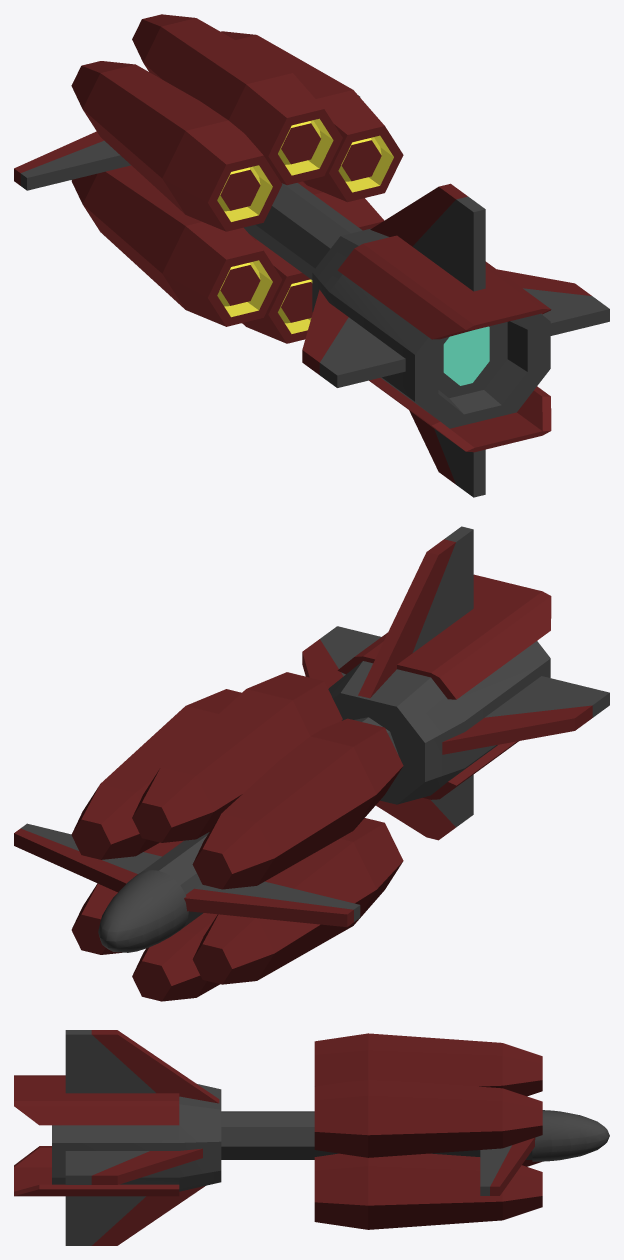
File: missile4.fbx
The picture shows the model from 3 angles, top to bottom: view 1: azimuth 30°, elevation 25°; view 2: azimuth 150°, elevation 25°; view 3: azimuth 270°, elevation 25°; orthographic projection. The views are drawn at different scales.
Visible parts, largest first — view 1: engine_high_26, engine_airplane%_49, engine_airplane%_45, engine_airplane%_50, engine_airplane%_51, wing_endLong_25, wing_endLong_23, cylinder_vertex_17, wing_endLong_52, engine_airplane%_43, wing_endLong_24, wing_endLong_22 (+1 smaller); view 2: engine_high_26, engine_airplane%_49, engine_airplane%_45, engine_airplane%_50, engine_airplane%_51, wing_endLong_25, wing_endLong_23, sphere_dome_19, wing_endLong_52, engine_airplane%_43, wing_endLong_53, wing_endLong_22 (+3 smaller); view 3: engine_high_26, engine_airplane%_51, engine_airplane%_48, engine_airplane%_45, wing_endLong_25, cylinder_vertex_17, wing_endLong_22, wing_endLong_24, sphere_dome_19, wing_endLong_53, engine_airplane%_43.
Part boxes in pixels (x1=…): engine_high_26: x1=312, y1=228, x2=551, y2=452; engine_airplane%_49: x1=71, y1=61, x2=282, y2=231; engine_airplane%_45: x1=132, y1=14, x2=342, y2=185; engine_airplane%_50: x1=71, y1=165, x2=282, y2=326; engine_airplane%_51: x1=221, y1=31, x2=403, y2=202; wing_endLong_25: x1=370, y1=183, x2=485, y2=291; wing_endLong_23: x1=302, y1=289, x2=405, y2=387; cylinder_vertex_17: x1=244, y1=183, x2=362, y2=279; wing_endLong_52: x1=14, y1=131, x2=130, y2=190; engine_airplane%_43: x1=242, y1=235, x2=312, y2=343; wing_endLong_24: x1=497, y1=269, x2=609, y2=335; wing_endLong_22: x1=409, y1=410, x2=485, y2=497; engine_high_26: x1=328, y1=574, x2=551, y2=804; engine_airplane%_49: x1=192, y1=718, x2=403, y2=889; engine_airplane%_45: x1=132, y1=672, x2=342, y2=842; engine_airplane%_50: x1=192, y1=818, x2=403, y2=984; engine_airplane%_51: x1=71, y1=689, x2=241, y2=859; wing_endLong_25: x1=358, y1=526, x2=473, y2=698; wing_endLong_23: x1=442, y1=676, x2=609, y2=754; sphere_dome_19: x1=98, y1=870, x2=188, y2=952; wing_endLong_52: x1=184, y1=881, x2=360, y2=926; engine_airplane%_43: x1=132, y1=913, x2=219, y2=1001; wing_endLong_53: x1=14, y1=823, x2=161, y2=892; wing_endLong_22: x1=376, y1=775, x2=473, y2=840; engine_high_26: x1=14, y1=1075, x2=221, y2=1196; engine_airplane%_51: x1=314, y1=1080, x2=542, y2=1157; engine_airplane%_48: x1=314, y1=1153, x2=542, y2=1228; engine_airplane%_45: x1=314, y1=1033, x2=542, y2=1095; wing_endLong_25: x1=65, y1=1030, x2=219, y2=1103; cylinder_vertex_17: x1=221, y1=1111, x2=532, y2=1159; wing_endLong_22: x1=65, y1=1186, x2=204, y2=1245; wing_endLong_24: x1=65, y1=1148, x2=202, y2=1184; sphere_dome_19: x1=532, y1=1110, x2=609, y2=1161; wing_endLong_53: x1=480, y1=1137, x2=535, y2=1195; engine_airplane%_43: x1=314, y1=1205, x2=542, y2=1229.
Bounding box in the file's own units: 11 × 9 × 23.
